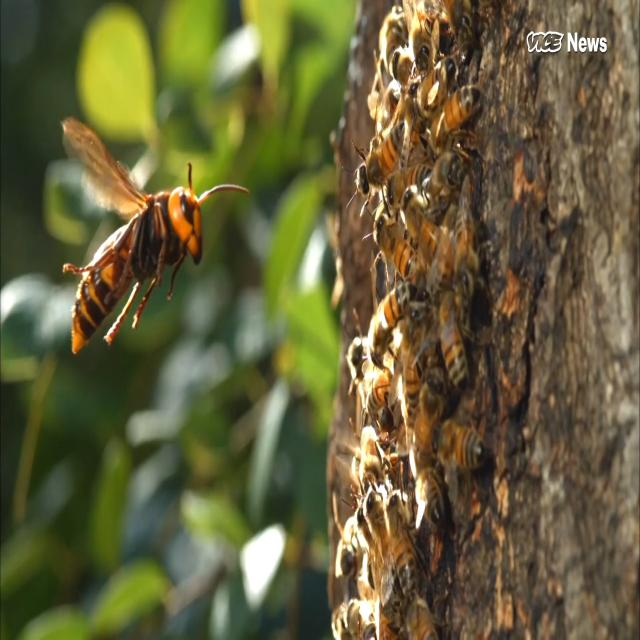Bees: (348, 89, 403, 217), (380, 478, 429, 603), (397, 182, 454, 278), (363, 276, 417, 372), (423, 85, 483, 167)
Hornets: (61, 116, 248, 356)
